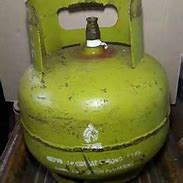gas_ijo: (18, 1, 171, 183)
